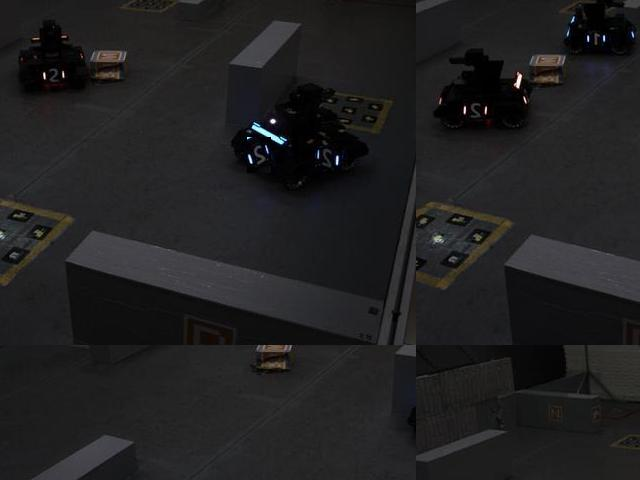armor: (247, 137, 272, 174), (315, 147, 343, 172), (461, 99, 493, 120), (41, 66, 69, 87), (585, 30, 611, 50)
